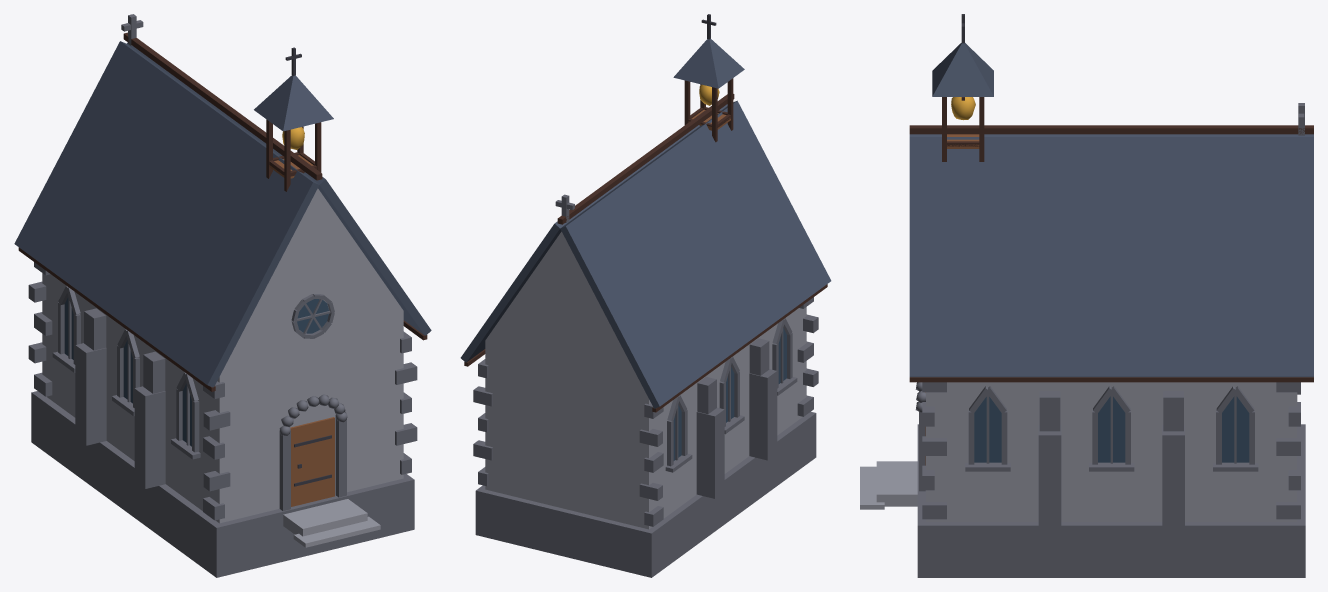
File: chapel.glb
3 renders of one model, left to right at view 1: azimuth 30°, elevation 25°; view 2: azimuth 150°, elevation 25°; view 3: azimuth 270°, elevation 25°, orthographic. The views are drawn at different scales.
Visible parts, largest first — view 1: footing; view 2: footing; view 3: footing.
Boxes of the visible parts, x1=… form: footing: x1=14, y1=14, x2=431, y2=577; footing: x1=460, y1=14, x2=831, y2=577; footing: x1=860, y1=14, x2=1313, y2=577.
Bounding box in the file's own units: 6.6 × 13.71 × 11.
